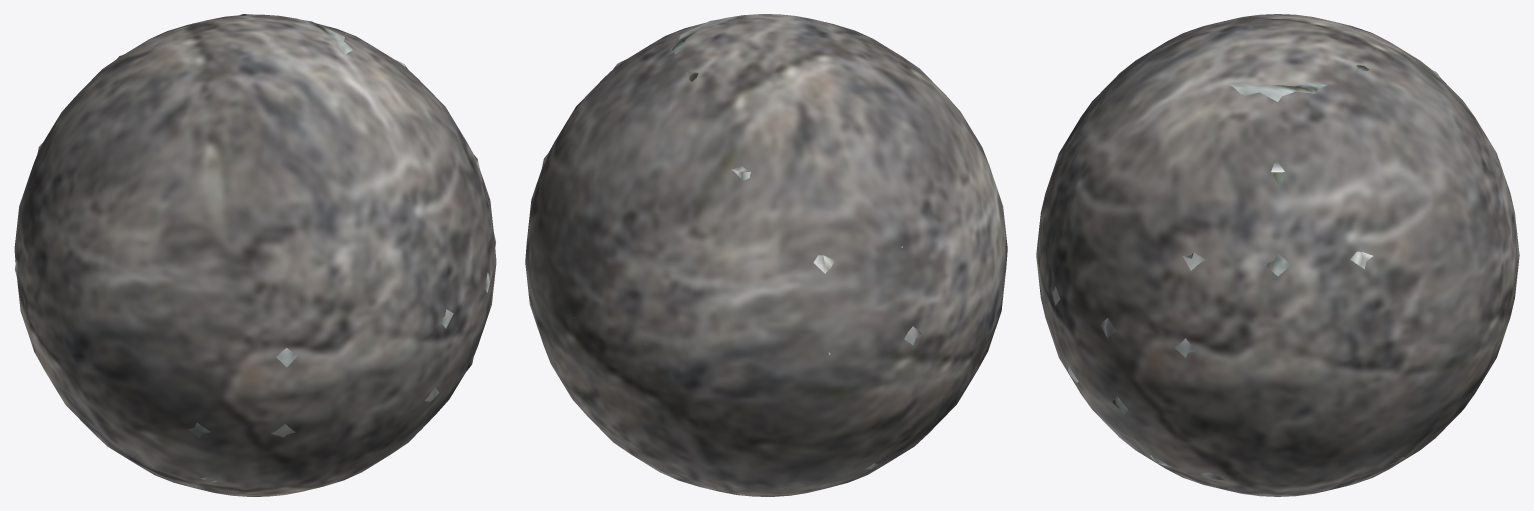
File: Balls.glb
3 views of the same model, side by side, from view 1: azimuth 30°, elevation 25°; view 2: azimuth 150°, elevation 25°; view 3: azimuth 270°, elevation 25° (orthographic).
Parts seen in each view (by area): view 1: stone_ball, paper_ball.col; view 2: stone_ball, paper_ball.col; view 3: stone_ball, paper_ball.col.
Part boxes in pixels (box(x1,y1,x2,y2)): stone_ball: box(14, 14, 496, 496); paper_ball.col: box(15, 14, 495, 481); stone_ball: box(525, 14, 1007, 496); paper_ball.col: box(542, 18, 975, 469); stone_ball: box(1036, 14, 1519, 496); paper_ball.col: box(1051, 65, 1501, 479).
Size of the model in its own units: 2 by 2 by 2.
3 materials, 3 textured.
